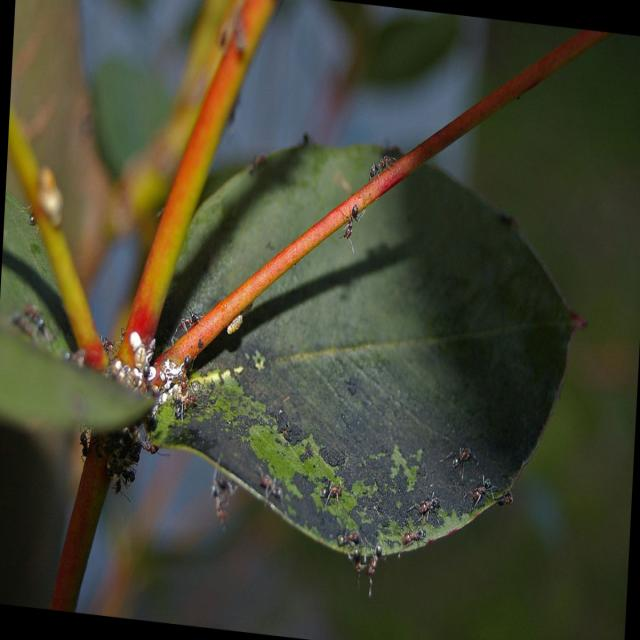Sooty Mold: (175, 272, 569, 598)
